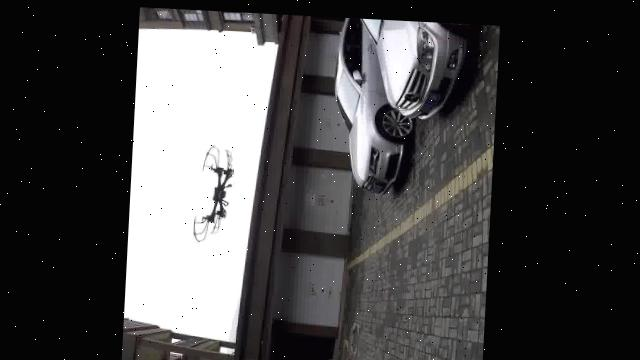drone: (180, 124, 245, 246)
